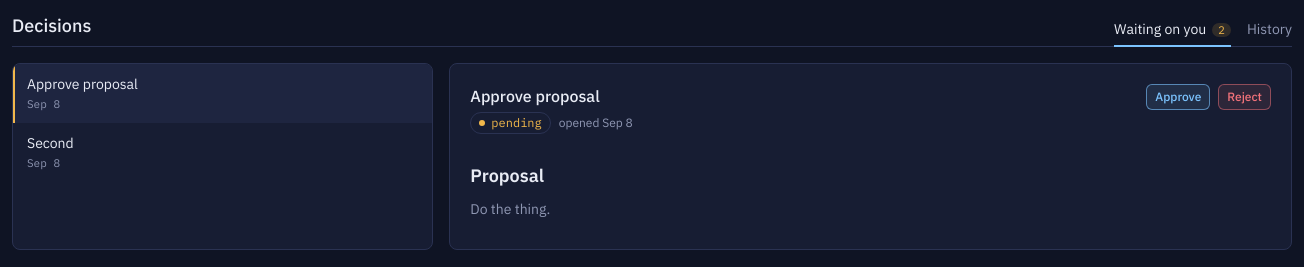
Test: DecisionsPanel › selects another decision from the list
Expected: the list named "Decision list" is shown, [12,63,433,250]
Click the button "Second Sep 8".
click(50, 142)  # box [13,122,432,181]
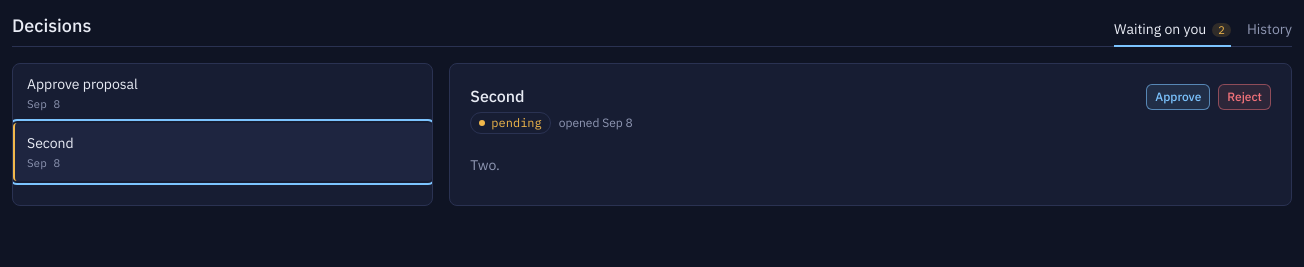
Expected: the text "Two." is shown, [470,156,500,174]
